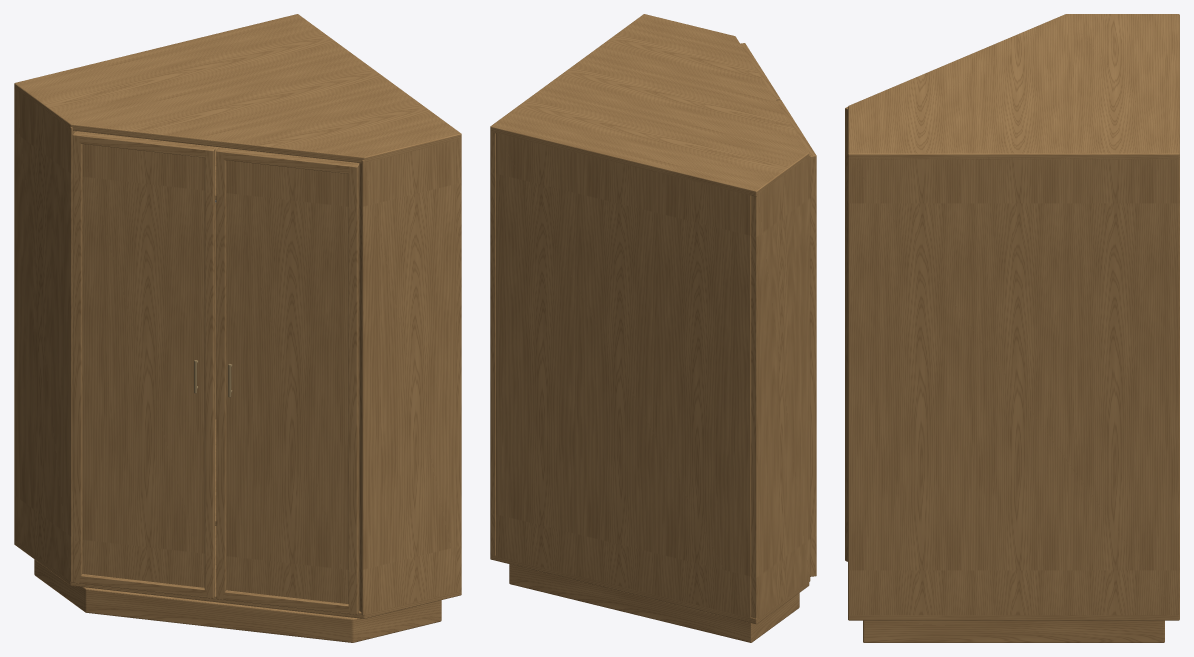
3 views of the same model, side by side, from view 1: azimuth 30°, elevation 25°; view 2: azimuth 150°, elevation 25°; view 3: azimuth 270°, elevation 25° (orthographic). The views are drawn at different scales.
Visible parts, largest first — view 1: Diagonal | framed door | inset panel.001, Diagonal | framed door | inset panel, Corner | right return, Corner | pentagonal panel.001, Corner | left return, Corner | recessed pentagonal plinth, Diagonal | framed door | stile.003, Diagonal | framed door | stile.001, Diagonal | framed door | stile, Diagonal | framed door | stile.002, Corner | rear X wall, Corner | pentagonal panel (+4 smaller); view 2: Corner | rear Y wall, Corner | pentagonal panel.001, Corner | left return, Corner | recessed pentagonal plinth, Diagonal | framed door | stile, Corner | rear X wall, Corner | pentagonal panel; view 3: Corner | rear X wall, Corner | pentagonal panel.001, Corner | recessed pentagonal plinth, Corner | pentagonal panel, Diagonal | framed door | stile.003.
Part boxes in pixels (left/top/right/bottom): Diagonal | framed door | inset panel.001: left=226, top=160, right=348, bottom=603; Diagonal | framed door | inset panel: left=82, top=144, right=204, bottom=587; Corner | right return: left=359, top=139, right=460, bottom=615; Corner | pentagonal panel.001: left=14, top=14, right=461, bottom=163; Corner | left return: left=14, top=87, right=76, bottom=582; Corner | recessed pentagonal plinth: left=34, top=559, right=441, bottom=642; Diagonal | framed door | stile.003: left=348, top=163, right=359, bottom=614; Diagonal | framed door | stile.001: left=204, top=147, right=215, bottom=598; Diagonal | framed door | stile: left=72, top=131, right=82, bottom=583; Diagonal | framed door | stile.002: left=216, top=148, right=226, bottom=599; Corner | rear X wall: left=456, top=137, right=461, bottom=591; Corner | pentagonal panel: left=14, top=526, right=461, bottom=618; Corner | rear Y wall: left=496, top=132, right=751, bottom=617; Corner | pentagonal panel.001: left=490, top=14, right=809, bottom=196; Corner | left return: left=751, top=154, right=810, bottom=619; Corner | recessed pentagonal plinth: left=509, top=564, right=799, bottom=642; Diagonal | framed door | stile: left=809, top=152, right=816, bottom=576; Corner | rear X wall: left=490, top=131, right=495, bottom=556; Corner | pentagonal panel: left=490, top=555, right=809, bottom=624; Corner | rear X wall: left=848, top=157, right=1179, bottom=615; Corner | pentagonal panel.001: left=848, top=14, right=1179, bottom=159; Corner | recessed pentagonal plinth: left=863, top=620, right=1164, bottom=642; Corner | pentagonal panel: left=848, top=615, right=1179, bottom=620; Diagonal | framed door | stile.003: left=845, top=107, right=847, bottom=561.
Bounding box in the file's own units: 1.28 × 2.09 × 1.28.
Materials: 3 (1 with a texture image).
